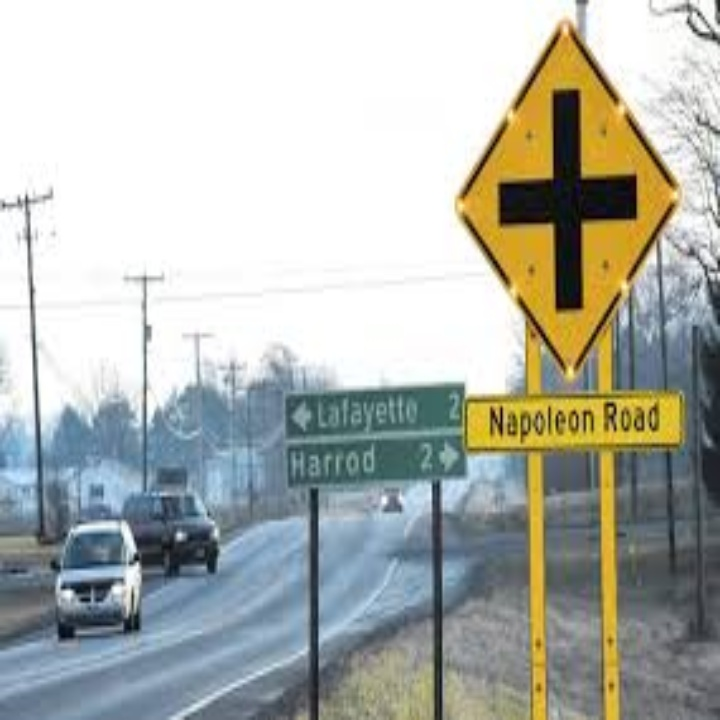inter: (488, 80, 646, 322)
